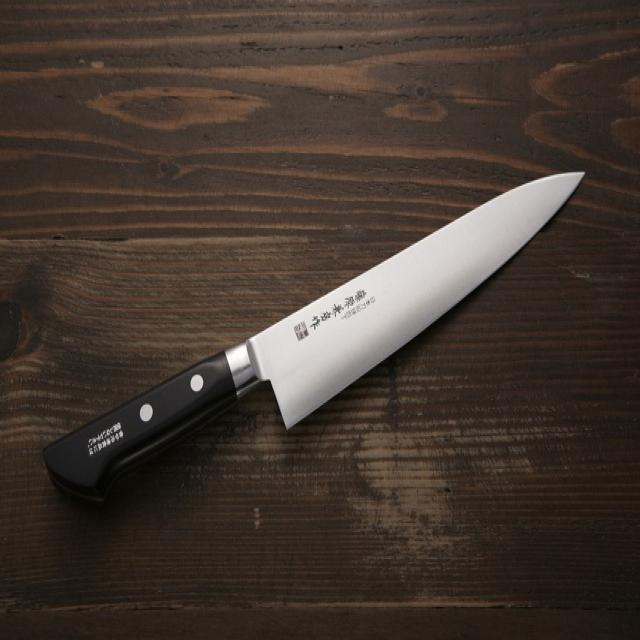Knife: (46, 164, 588, 492)
